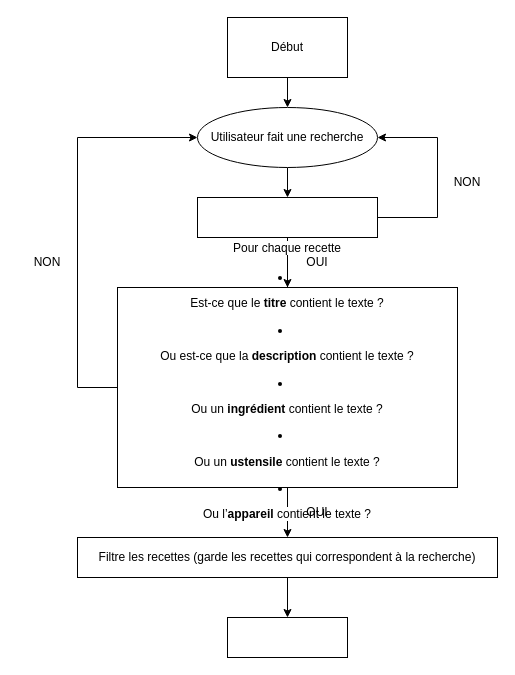
Some shapes in this 515 by 675 pixel diagram are drawn without their labels. The centre of each missing label's shape, as x and y in pixels:
Affiche les recettes: pixel 287 637
Recherche ≥ 3 caractères ?: pixel 287 217
